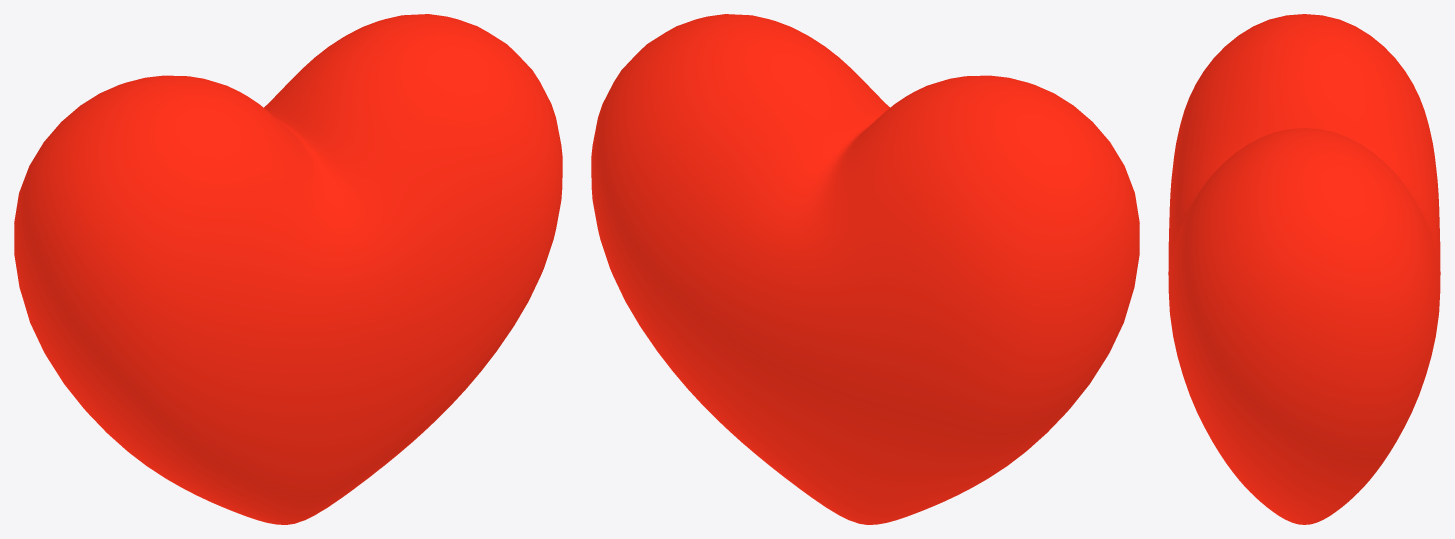
Rendered from heart.gltf.
The picture shows the model from 3 angles, left to right: view 1: azimuth 30°, elevation 25°; view 2: azimuth 150°, elevation 25°; view 3: azimuth 270°, elevation 25°; orthographic projection. The views are drawn at different scales.
Parts seen in each view (by area): view 1: BASE_HEART; view 2: BASE_HEART; view 3: BASE_HEART.
Part boxes in pixels (x1,y1,x2,y2): BASE_HEART: (14, 14, 562, 524); BASE_HEART: (591, 14, 1139, 524); BASE_HEART: (1168, 14, 1440, 524).
Bounding box in the file's own units: 0.8581 × 0.7483 × 0.4225.
Materials: 1 (1 with a texture image).
